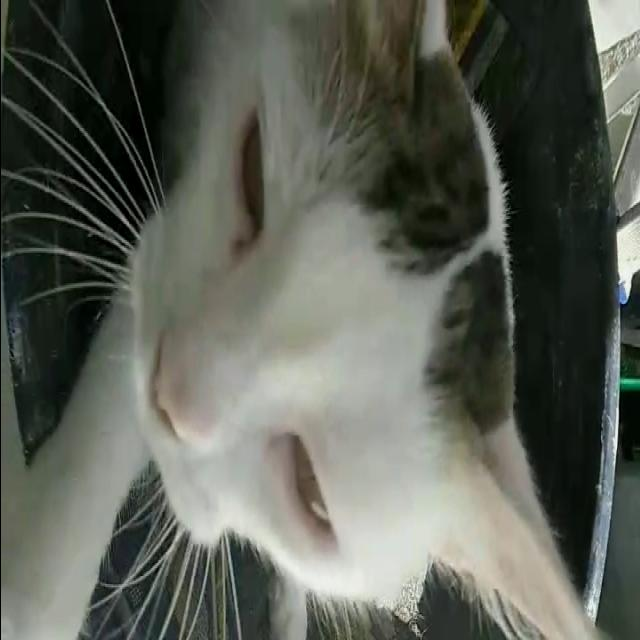Simba: (1, 0, 640, 638)
